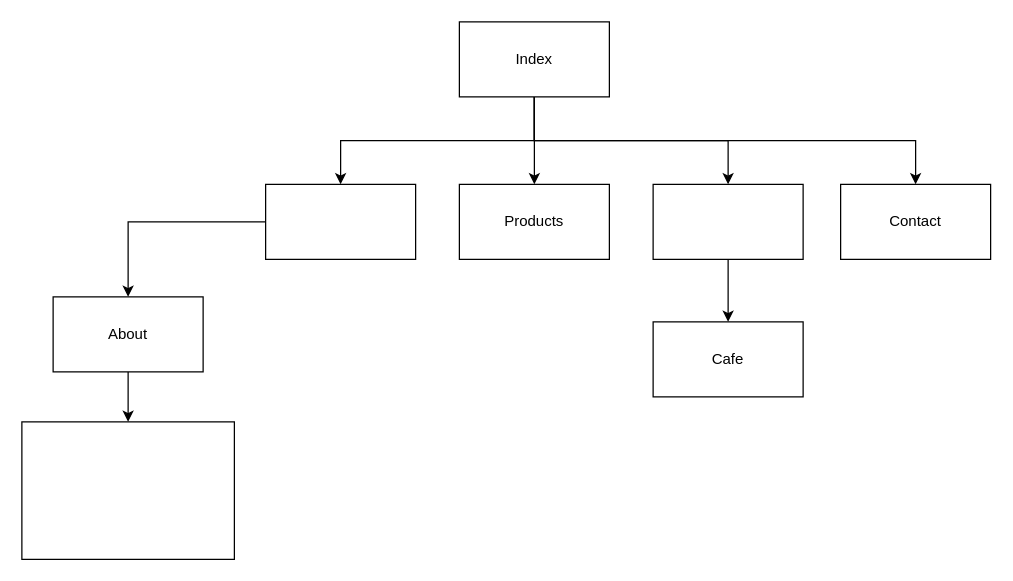
Some shapes in this 1013 by 581 pixel diagram are drawn without their labels. Each missing label, with the centre of its shape:
"Event" belongs at point (727, 221).
"Home" belongs at point (340, 221).
"Online form Order Now Feedback" belongs at point (127, 490).
